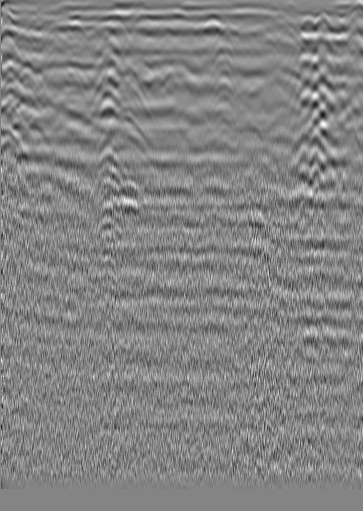가스: (104, 177, 145, 215)
상수: (20, 31, 40, 51)
오수: (313, 35, 333, 55)
우수: (178, 24, 198, 44)
